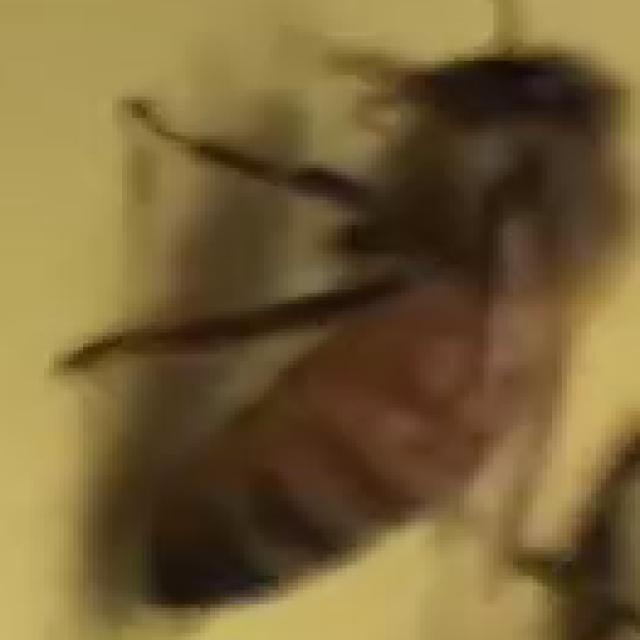honeybee: (110, 31, 634, 640)
